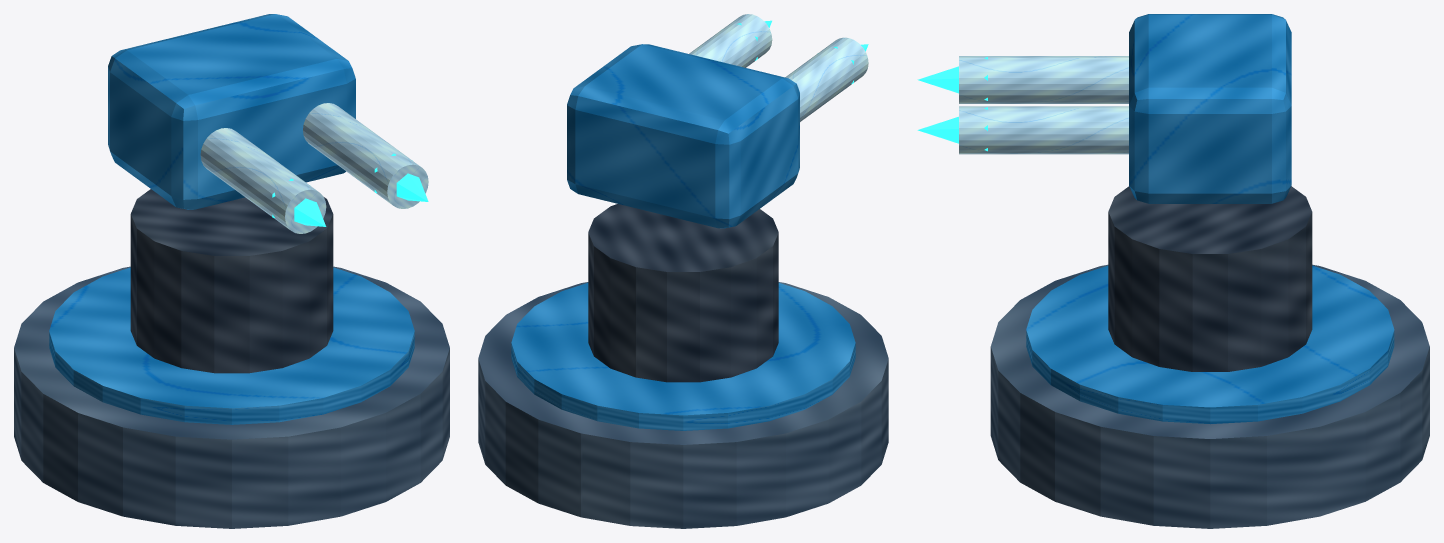
The model's file is 02_IcicleRepeater.glb.
3 renders of one model, left to right at view 1: azimuth 30°, elevation 25°; view 2: azimuth 150°, elevation 25°; view 3: azimuth 270°, elevation 25°, orthographic. The views are drawn at different scales.
Visible parts, largest first — view 1: Stand_Base.001, Head_Housing.001, Stand_Pedestal.001, Stand_IceRing.001, Head_IcicleBarrel, Head_IcicleBarrel.001, Head_IcicleTip.001, Head_IcicleTip; view 2: Stand_Base.001, Head_Housing.001, Stand_Pedestal.001, Stand_IceRing.001, Head_IcicleBarrel, Head_IcicleBarrel.001; view 3: Stand_Base.001, Stand_Pedestal.001, Head_Housing.001, Stand_IceRing.001, Head_IcicleBarrel.001, Head_IcicleBarrel, Head_IcicleTip, Head_IcicleTip.001.
Part boxes in pixels (x1,y1,x2,y2): Stand_Base.001: (14, 266, 449, 528); Head_Housing.001: (108, 14, 355, 209); Stand_Pedestal.001: (130, 189, 333, 373); Stand_IceRing.001: (49, 267, 414, 424); Head_IcicleBarrel: (200, 128, 326, 233); Head_IcicleBarrel.001: (303, 103, 428, 208); Head_IcicleTip.001: (374, 153, 428, 201); Head_IcicleTip: (272, 178, 326, 226); Stand_Base.001: (478, 282, 888, 528); Head_Housing.001: (567, 44, 799, 228); Stand_Pedestal.001: (588, 204, 778, 382); Stand_IceRing.001: (511, 283, 855, 430); Head_IcicleBarrel: (785, 37, 868, 121); Head_IcicleBarrel.001: (689, 14, 772, 67); Stand_Base.001: (990, 264, 1429, 528); Stand_Pedestal.001: (1108, 186, 1312, 371); Head_Housing.001: (1129, 14, 1291, 203); Stand_IceRing.001: (1026, 265, 1394, 424); Head_IcicleBarrel.001: (959, 106, 1128, 154); Head_IcicleBarrel: (959, 56, 1128, 103); Head_IcicleTip: (917, 57, 987, 100); Head_IcicleTip.001: (917, 107, 987, 151).
Bounding box in the file's own units: 3.1 × 3 × 3.62.
Materials: 5 (4 with a texture image).
